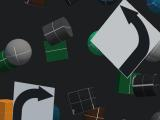Left: (90, 0, 160, 78)
Right: (12, 81, 55, 120)
